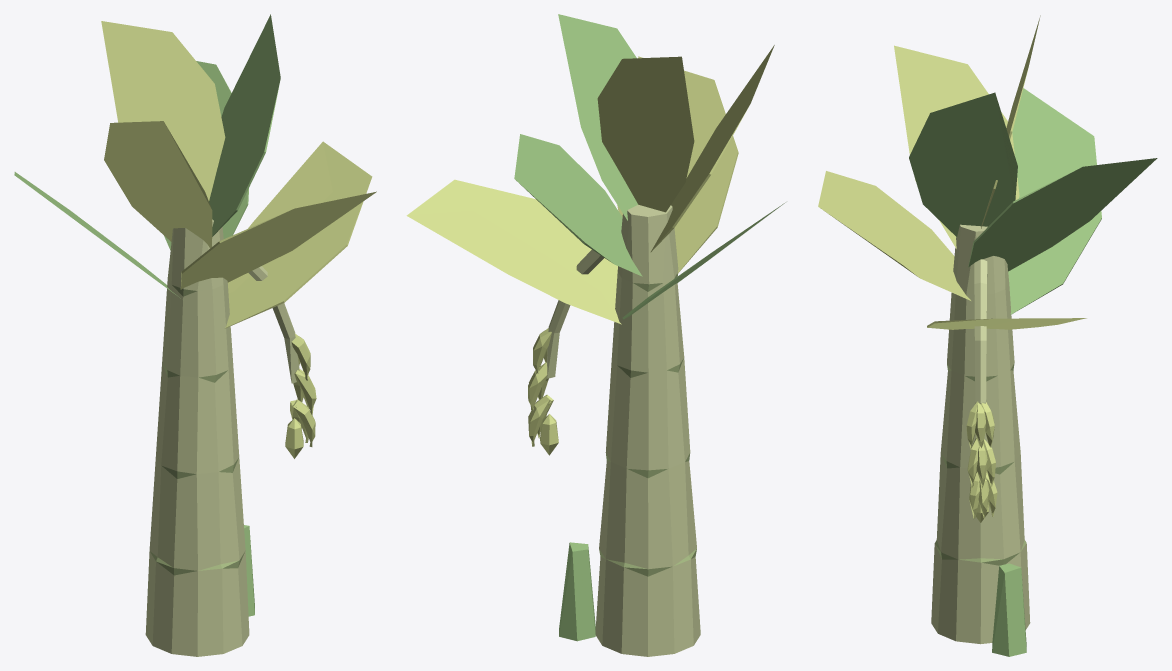
Rendered from 33-Agricultura_bananero.glb.
3 renders of one model, left to right at view 1: azimuth 30°, elevation 25°; view 2: azimuth 150°, elevation 25°; view 3: azimuth 270°, elevation 25°, orthographic. The views are drawn at different scales.
Parts seen in each view (by area): view 1: SM_Bananero_M_Bananero_HojaA, SM_Bananero_M_Bananero_Tallo_Bananero_Vaina, SM_Bananero_M_Bananero_HojaB, SM_Bananero_M_Bananero_Banano_Bananero_Tallo, SM_Bananero_M_Bananero_Flor; view 2: SM_Bananero_M_Bananero_Tallo_Bananero_Vaina, SM_Bananero_M_Bananero_HojaA, SM_Bananero_M_Bananero_HojaB, SM_Bananero_M_Bananero_Banano_Bananero_Tallo, SM_Bananero_M_Bananero_Flor; view 3: SM_Bananero_M_Bananero_HojaB, SM_Bananero_M_Bananero_Tallo_Bananero_Vaina, SM_Bananero_M_Bananero_HojaA, SM_Bananero_M_Bananero_Banano_Bananero_Tallo.
Part boxes in pixels (x1,y1,x2,y2): SM_Bananero_M_Bananero_HojaA: (101,21,376,328); SM_Bananero_M_Bananero_Tallo_Bananero_Vaina: (145,219,249,656); SM_Bananero_M_Bananero_HojaB: (14,14,280,616); SM_Bananero_M_Bananero_Banano_Bananero_Tallo: (248,266,316,446); SM_Bananero_M_Bananero_Flor: (285,418,303,458); SM_Bananero_M_Bananero_Tallo_Bananero_Vaina: (595,204,700,656); SM_Bananero_M_Bananero_HojaA: (406,45,774,324); SM_Bananero_M_Bananero_HojaB: (514,14,785,641); SM_Bananero_M_Bananero_Banano_Bananero_Tallo: (528,250,603,446); SM_Bananero_M_Bananero_Flor: (540,414,558,455); SM_Bananero_M_Bananero_HojaB: (909,88,1157,656); SM_Bananero_M_Bananero_Tallo_Bananero_Vaina: (931,224,1030,644); SM_Bananero_M_Bananero_HojaA: (818,15,1086,329); SM_Bananero_M_Bananero_Banano_Bananero_Tallo: (966,259,997,519).
Size of the model in its own units: 1.45 by 2.45 by 1.3.
